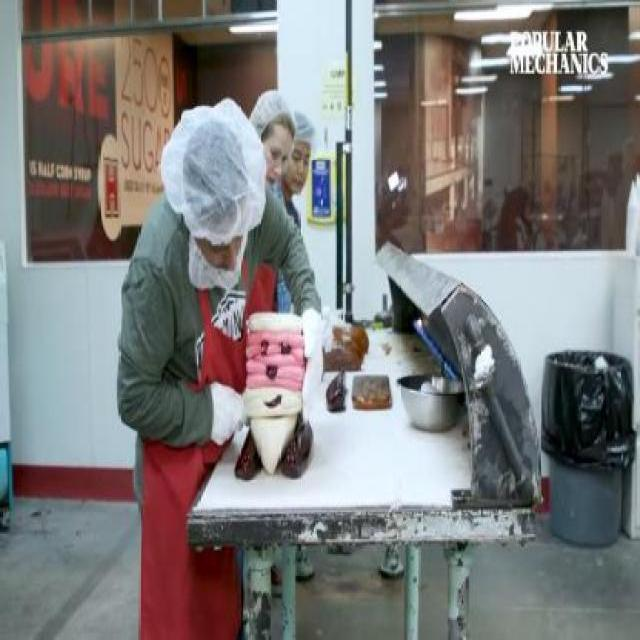gloved_hand: (196, 374, 252, 451), (299, 295, 330, 369)
